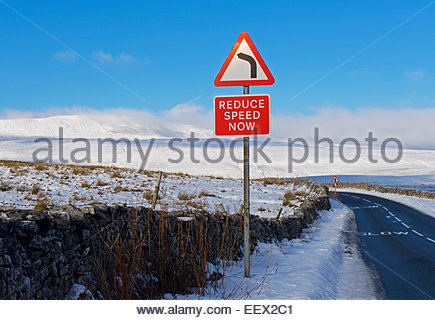Bend_to_left: (211, 30, 278, 89)
